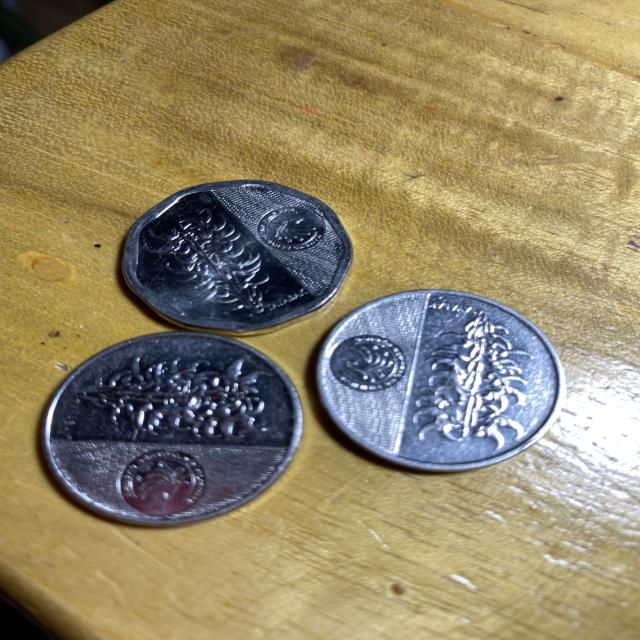5_New_Back: (142, 203, 277, 315)
